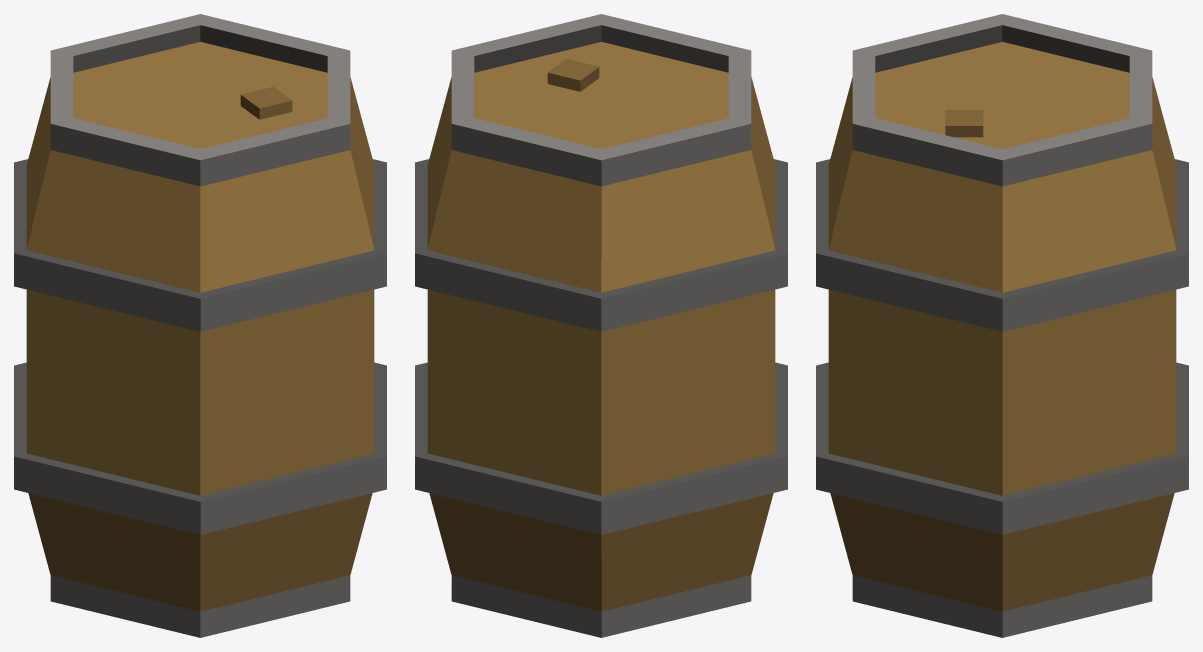
The model's file is Barrel_02.gltf.
The picture shows the model from 3 angles, left to right: view 1: azimuth 30°, elevation 25°; view 2: azimuth 150°, elevation 25°; view 3: azimuth 270°, elevation 25°; orthographic projection.
Visible parts, largest first — view 1: SF_Prop_Barrel_02; view 2: SF_Prop_Barrel_02; view 3: SF_Prop_Barrel_02.
Part boxes in pixels (x1,y1,x2,y2): SF_Prop_Barrel_02: (14, 14, 386, 637); SF_Prop_Barrel_02: (415, 14, 787, 637); SF_Prop_Barrel_02: (816, 14, 1188, 637).
Size of the model in its own units: 0.0166 by 0.0203 by 0.0144.
1 material, 1 textured.
